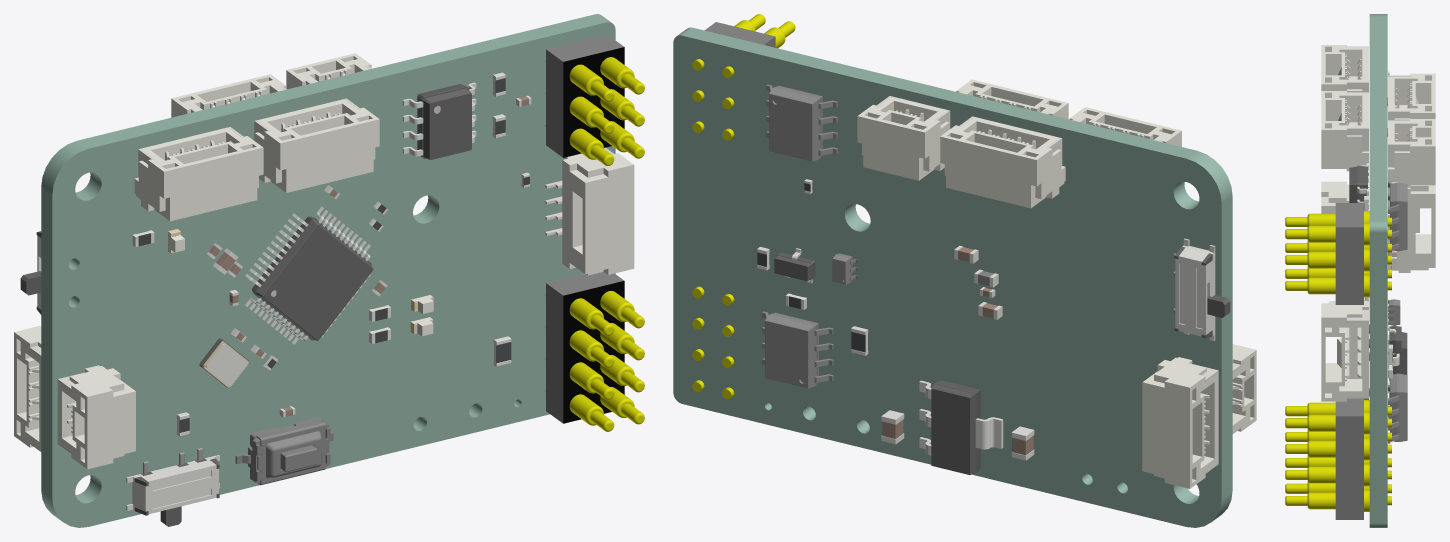
The model's file is toolchanger_end_effector_side_of_pcb.glb.
3 views of the same model, side by side, from view 1: azimuth 30°, elevation 25°; view 2: azimuth 150°, elevation 25°; view 3: azimuth 270°, elevation 25° (orthographic). The views are drawn at different scales.
Visible parts, largest first — view 1: ToolChanger Robot Side PCB_PCB.step-1, JST_SM04B_GHS_TB.step-1 (×5), 2x4 2.54 Pogo Pin-1, LQFP_48_7x7mm_P05mm.step-1, 2x3 2.54 Pogo Pin-1, JST_SM02B_GHS_TB.step-1 (×2), Fusion_sp.step-1 (×2), PTS636Sx25SMTRLFS.step-1, SOIC_8_39x49mm_P127mm.step-1, Crystal_SMD_3225-4Pin_3.2x2.5mm-6.step-1; view 2: ToolChanger Robot Side PCB_PCB.step-1, JST_SM04B_GHS_TB.step-1 (×4), ASSEMBLY-10.step-1 (×2), JST_SM02B_GHS_TB.step-1 (×2), SOT_223.step-1, Fusion_sp.step-1, 2x3 2.54 Pogo Pin-1, C_0805_2012Metric-9.step-1 (×2), SOT_23.step-1, 2x4 2.54 Pogo Pin-1, ASSEMBLY.step-1; view 3: JST_SM04B_GHS_TB.step-1 (×5), ToolChanger Robot Side PCB_PCB.step-1, 2x4 2.54 Pogo Pin-1, 2x3 2.54 Pogo Pin-1, JST_SM02B_GHS_TB.step-1 (×2), ASSEMBLY-10.step-1 (×2), SOIC_8_39x49mm_P127mm.step-1, SOT_223.step-1, ASSEMBLY.step-1, SOT_23.step-1.
Part boxes in pixels (box(x1,y1,x2,y2)): ToolChanger Robot Side PCB_PCB.step-1: box(41, 14, 615, 527); JST_SM04B_GHS_TB.step-1 (×5): box(14, 74, 634, 451); 2x4 2.54 Pogo Pin-1: box(545, 272, 644, 431); LQFP_48_7x7mm_P05mm.step-1: box(245, 206, 373, 344); 2x3 2.54 Pogo Pin-1: box(545, 34, 644, 165); JST_SM02B_GHS_TB.step-1 (×2): box(57, 53, 371, 469); Fusion_sp.step-1 (×2): box(20, 231, 219, 526); PTS636Sx25SMTRLFS.step-1: box(235, 417, 333, 485); SOIC_8_39x49mm_P127mm.step-1: box(402, 82, 476, 159); Crystal_SMD_3225-4Pin_3.2x2.5mm-6.step-1: box(199, 338, 248, 387); ToolChanger Robot Side PCB_PCB.step-1: box(673, 27, 1232, 527); JST_SM04B_GHS_TB.step-1 (×4): box(940, 79, 1218, 488); ASSEMBLY-10.step-1 (×2): box(762, 84, 837, 388); JST_SM02B_GHS_TB.step-1 (×2): box(857, 96, 1256, 433); SOT_223.step-1: box(919, 380, 1003, 474); Fusion_sp.step-1: box(1173, 238, 1230, 340); 2x3 2.54 Pogo Pin-1: box(692, 14, 795, 140); C_0805_2012Metric-9.step-1 (×2): box(881, 410, 1034, 460); SOT_23.step-1: box(774, 248, 815, 283); 2x4 2.54 Pogo Pin-1: box(692, 286, 734, 399); ASSEMBLY.step-1: box(832, 253, 858, 284); JST_SM04B_GHS_TB.step-1 (×5): box(1321, 45, 1435, 401); ToolChanger Robot Side PCB_PCB.step-1: box(1369, 14, 1387, 527); 2x4 2.54 Pogo Pin-1: box(1285, 398, 1391, 519); 2x3 2.54 Pogo Pin-1: box(1285, 203, 1391, 304); JST_SM02B_GHS_TB.step-1 (×2): box(1321, 119, 1435, 213); ASSEMBLY-10.step-1 (×2): box(1388, 181, 1407, 443); SOIC_8_39x49mm_P127mm.step-1: box(1349, 163, 1368, 208); SOT_223.step-1: box(1388, 332, 1407, 397); ASSEMBLY.step-1: box(1388, 299, 1400, 325); SOT_23.step-1: box(1388, 325, 1401, 357).
Size of the model in its own units: 0.0477 by 0.0309 by 0.0134.
